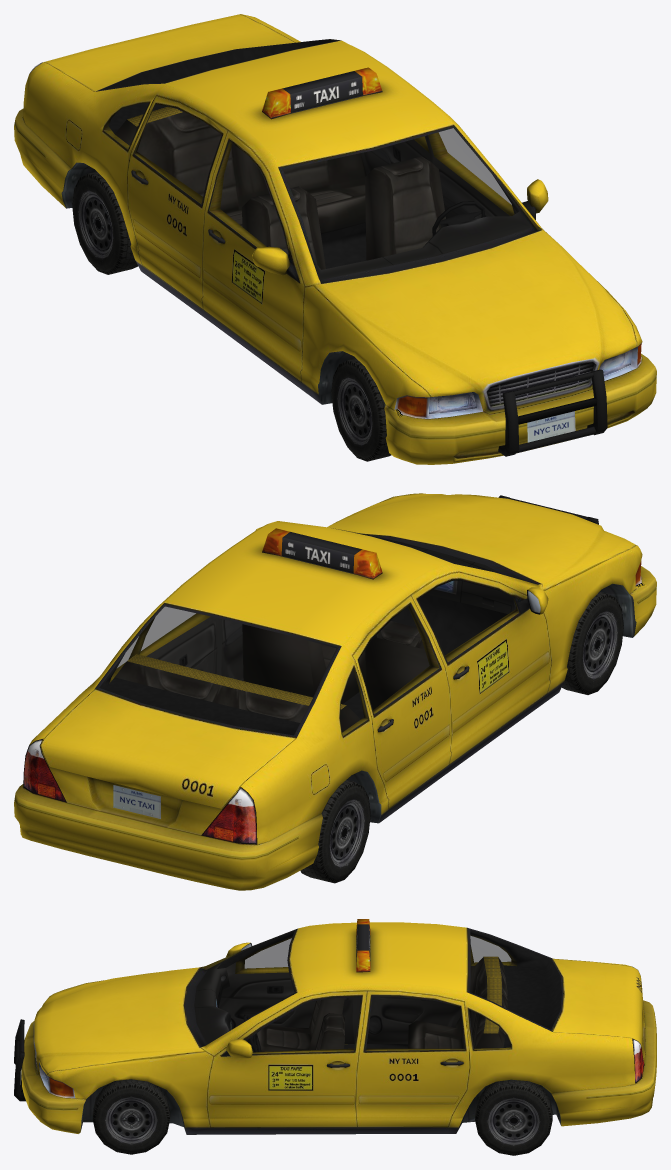
The model's file is taxi.fbx.
3 views of the same model, one above another, from view 1: azimuth 30°, elevation 25°; view 2: azimuth 150°, elevation 25°; view 3: azimuth 270°, elevation 25° (orthographic). The views are drawn at different scales.
Visible parts, largest first — view 1: Mesh16 us_police_1 Model, Mesh17 us_police_1 Model, Mesh18 us_police_1 Model; view 2: Mesh16 us_police_1 Model, Mesh17 us_police_1 Model, Mesh18 us_police_1 Model; view 3: Mesh16 us_police_1 Model, Mesh14 us_police_1 Model, Mesh10 us_police_1 Model.
Boxes of the visible parts, x1,y1,x2,y2 form: Mesh16 us_police_1 Model: (14,14,656,464); Mesh17 us_police_1 Model: (72,171,137,274); Mesh18 us_police_1 Model: (331,358,391,461); Mesh16 us_police_1 Model: (14,493,656,890); Mesh17 us_police_1 Model: (300,780,370,883); Mesh18 us_police_1 Model: (561,592,623,694); Mesh16 us_police_1 Model: (14,919,656,1134); Mesh14 us_police_1 Model: (475,1079,552,1155); Mesh10 us_police_1 Model: (92,1079,170,1154).
Bounding box in the file's own units: 525 × 399 × 1340.
4 materials, 3 textured.
